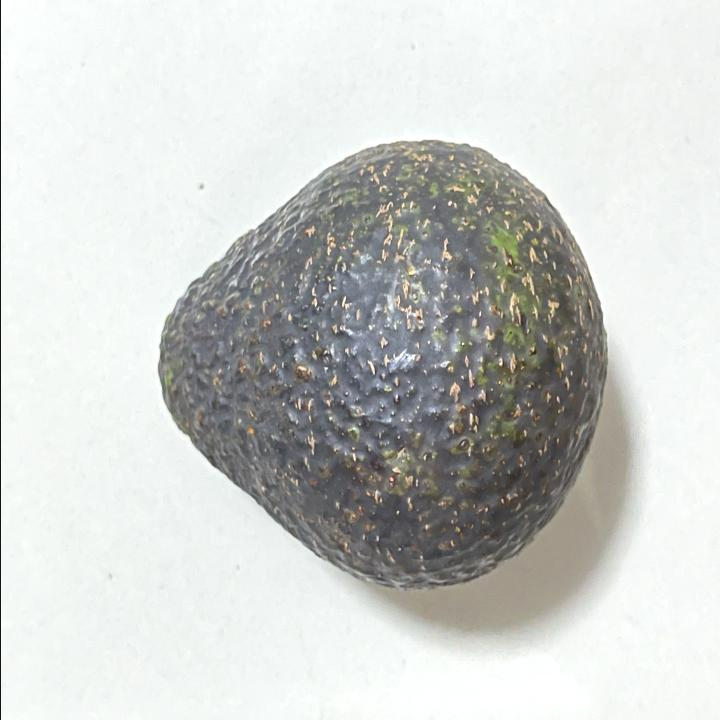Level1: (145, 127, 615, 604)
